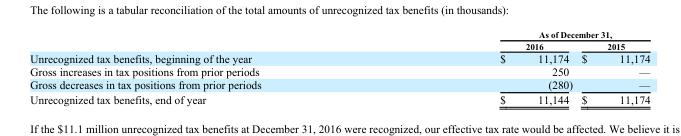table: (29, 29, 649, 105)
table column: (29, 29, 379, 105), (379, 29, 576, 105), (576, 29, 649, 105)
table column header: (29, 29, 649, 51)
table row: (29, 77, 649, 91), (29, 91, 649, 105), (29, 51, 649, 64), (29, 64, 649, 77), (29, 39, 649, 51), (29, 29, 649, 39)
table spanning cell: (379, 29, 649, 39)
